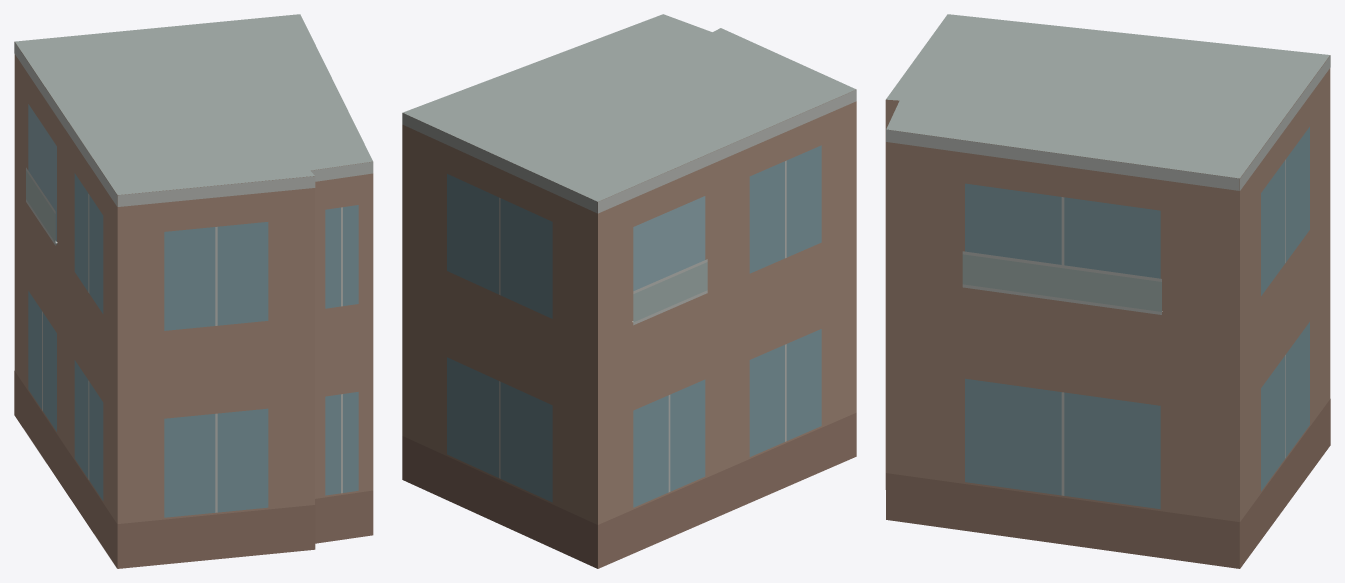
File: survey-upis-32544822.glb
3 renders of one model, left to right at view 1: azimuth 30°, elevation 25°; view 2: azimuth 150°, elevation 25°; view 3: azimuth 270°, elevation 25°, orthographic. The views are drawn at different scales.
Visible parts, largest first — view 1: survey-upis-32544822.tmp; view 2: survey-upis-32544822.tmp; view 3: survey-upis-32544822.tmp.
Boxes of the visible parts, bbox=[...] form: survey-upis-32544822.tmp: bbox=[14, 14, 373, 568]; survey-upis-32544822.tmp: bbox=[402, 14, 856, 568]; survey-upis-32544822.tmp: bbox=[885, 14, 1330, 568].
Bounding box in the file's own units: 6.88 × 7.6 × 7.86.
